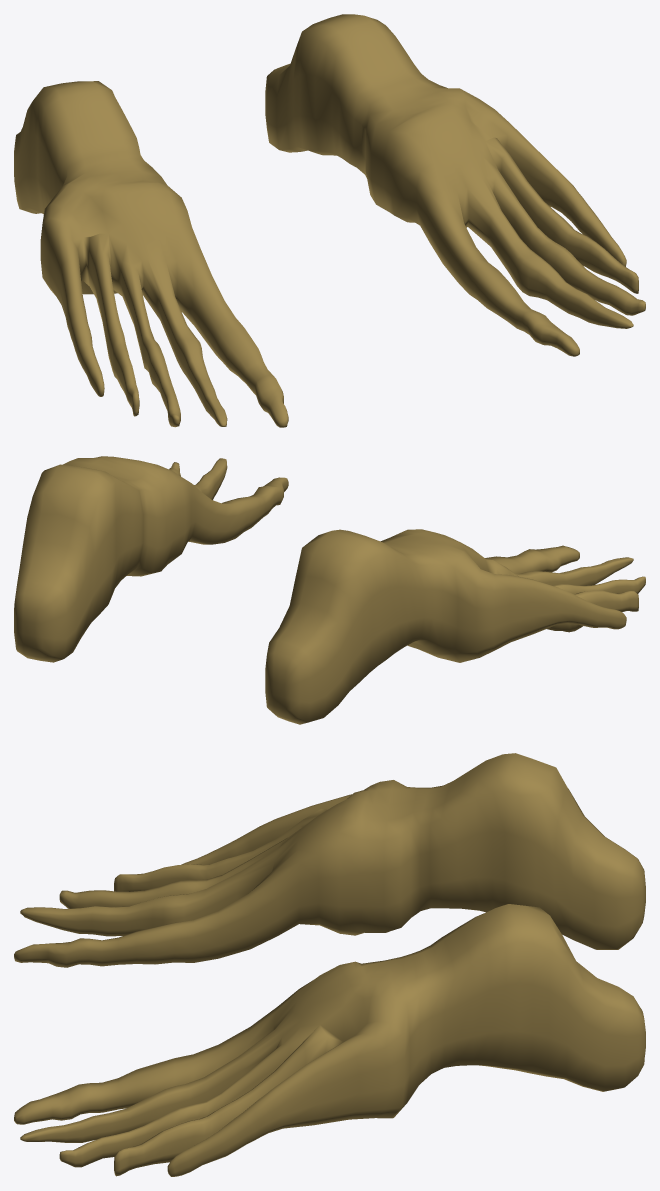
Rendered from Feet.obj.
3 renders of one model, top to bottom at view 1: azimuth 30°, elevation 25°; view 2: azimuth 150°, elevation 25°; view 3: azimuth 270°, elevation 25°, orthographic. The views are drawn at different scales.
Parts seen in each view (by area): view 1: Feet_Cube.006; view 2: Feet_Cube.006; view 3: Feet_Cube.006.
Part boxes in pixels (left/top/right/bottom): Feet_Cube.006: left=14, top=14, right=645, bottom=427; Feet_Cube.006: left=14, top=456, right=645, bottom=724; Feet_Cube.006: left=14, top=753, right=645, bottom=1176.
Bounding box in the file's own units: 2.46 × 0.8008 × 2.24.
